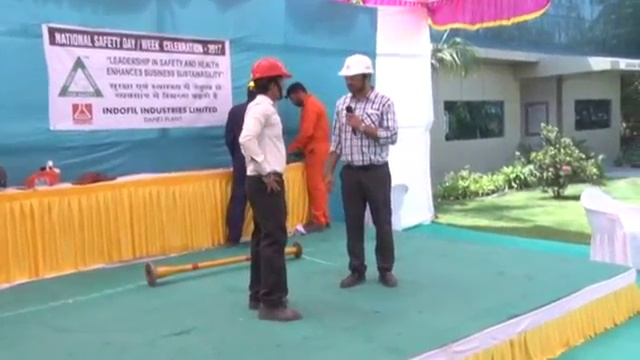helmet: (249, 57, 294, 81), (334, 52, 377, 77)
helmet_off: (285, 80, 308, 108)
helmet_on: (246, 57, 296, 105), (334, 51, 378, 100)
person: (323, 51, 399, 289), (238, 57, 306, 322), (284, 80, 333, 235), (225, 79, 255, 247)
